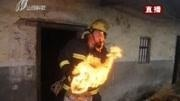fire: (63, 31, 125, 95)
